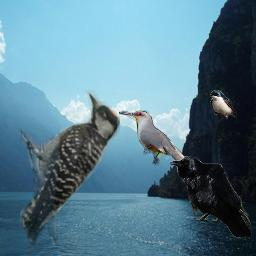Crow: (169, 156, 253, 239)
Cuckoo: (119, 110, 208, 188)
Swallow: (210, 90, 237, 119)
Woodpecker: (20, 86, 120, 246)
